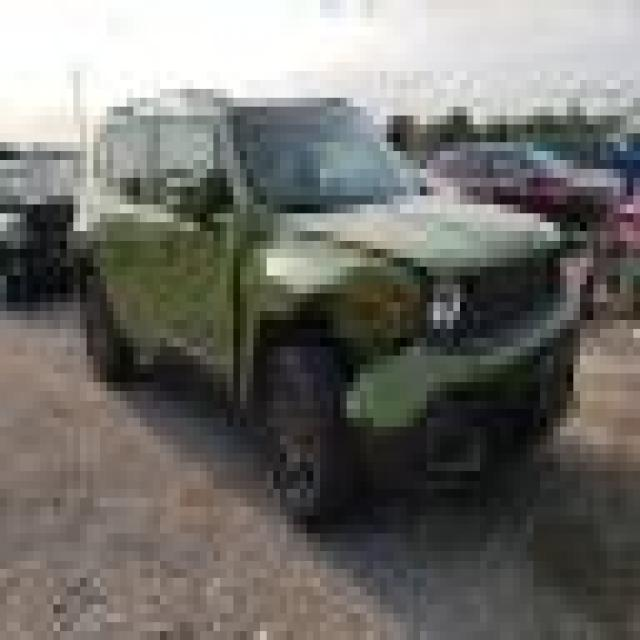minor: (202, 212, 251, 420)
moderate: (270, 234, 593, 484)
